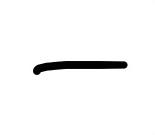minus: (33, 61, 127, 75)
